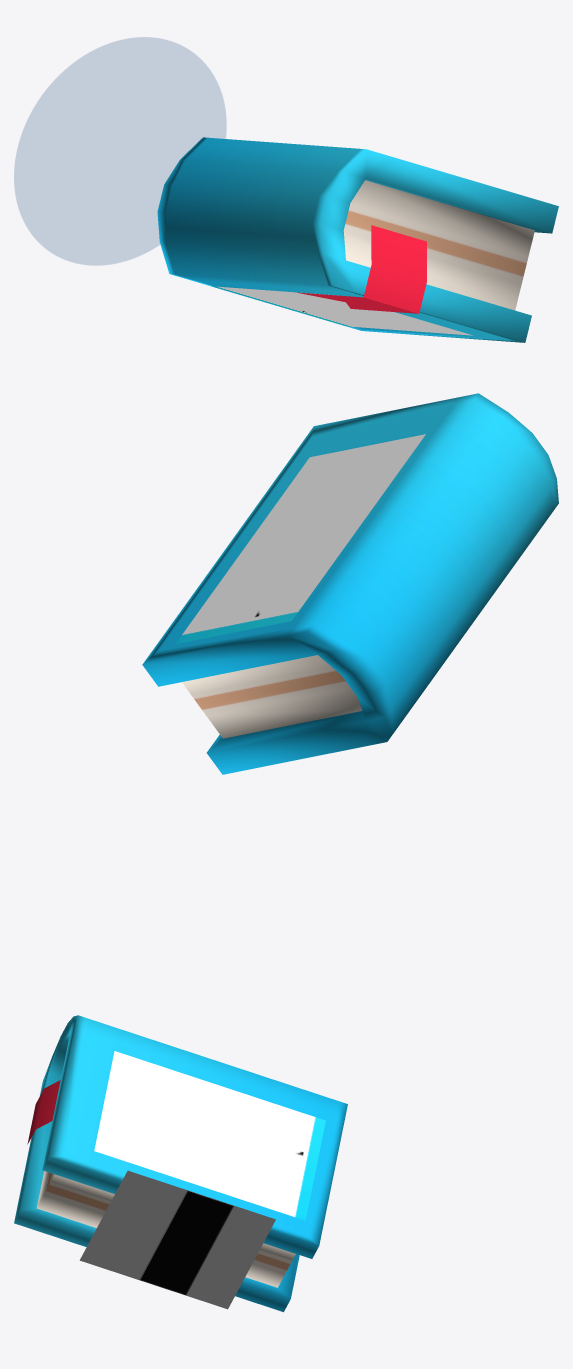
The model's file is Powerup.glb.
The picture shows the model from 3 angles, top to bottom: view 1: azimuth 30°, elevation 25°; view 2: azimuth 150°, elevation 25°; view 3: azimuth 270°, elevation 25°; orthographic projection. The views are drawn at different scales.
Visible parts, largest first — view 1: book__2207, Shadow__2834; view 2: book__2207; view 3: book__2207.
Boxes of the visible parts, x1=… form: book__2207: x1=157, y1=137, x2=558, y2=342; Shadow__2834: x1=14, y1=37, x2=226, y2=265; book__2207: x1=142, y1=393, x2=558, y2=774; book__2207: x1=14, y1=1015, x2=347, y2=1312.
Size of the model in its own units: 1.63 by 2.13 by 3.77.
Materials: 2 (2 with a texture image).
